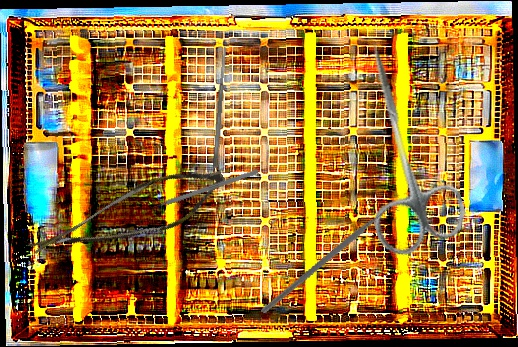Chopper: (260, 178, 403, 345)
Hook Surgical: (145, 168, 259, 213)
Iris Scissors: (325, 30, 473, 261)
Micro Scissor: (26, 137, 233, 299)
Spatula Surgical: (211, 45, 229, 169)
